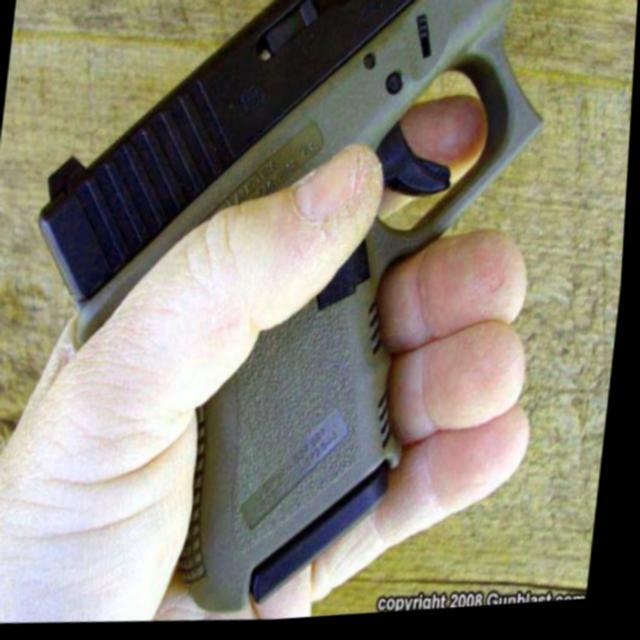weapon: (0, 0, 571, 638)
